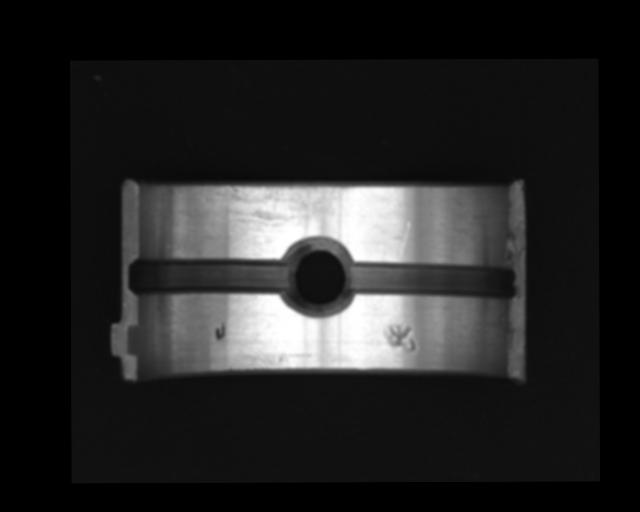blot: (215, 320, 226, 343)
bruise: (383, 323, 417, 354)
gap: (347, 260, 516, 302), (128, 258, 292, 296)
hole: (280, 237, 356, 316)
nick: (397, 221, 410, 261)
scratch: (199, 183, 355, 227)
